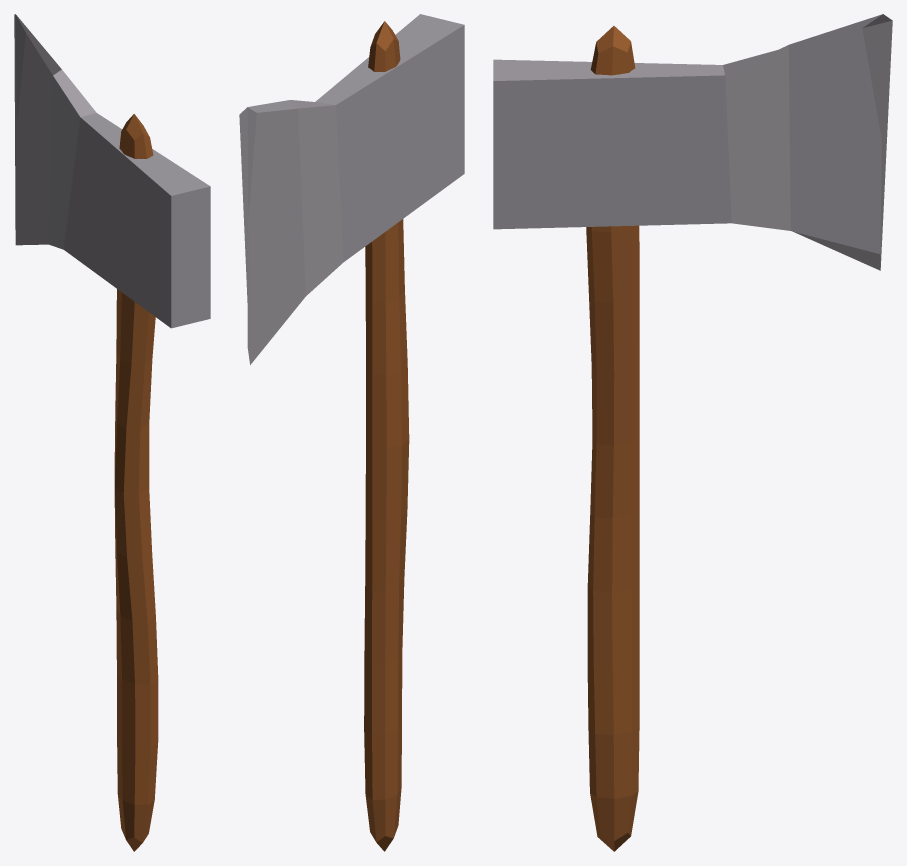
The model's file is balta.fbx.
3 renders of one model, left to right at view 1: azimuth 30°, elevation 25°; view 2: azimuth 150°, elevation 25°; view 3: azimuth 270°, elevation 25°, orthographic. The views are drawn at different scales.
Visible parts, largest first — view 1: Axe; view 2: Axe; view 3: Axe.
Part boxes in pixels (box(x1,y1,x2,y2)): Axe: box(14, 14, 210, 851); Axe: box(239, 14, 464, 851); Axe: box(493, 14, 892, 851).
Bounding box in the file's own units: 0.4357 × 7.84 × 3.38.
